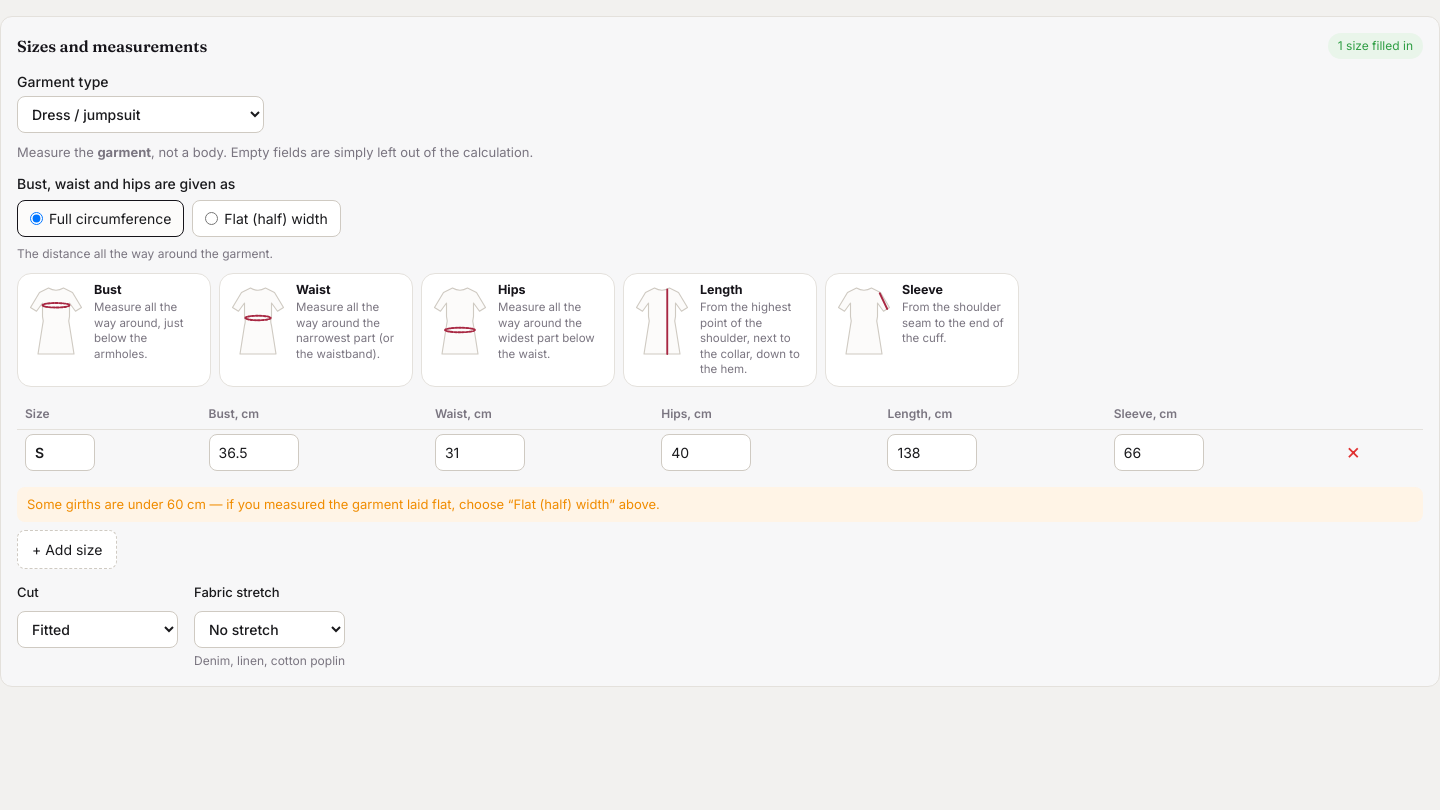
Test: flat-looking numbers with "Full circumference" selected get a gentle warning
Expected: the message shows "choose “Flat (half) width” above", [183,496,660,512]
Click the radio button labelled "Flat (half) width".
click(212, 218)  # box [205,212,218,224]
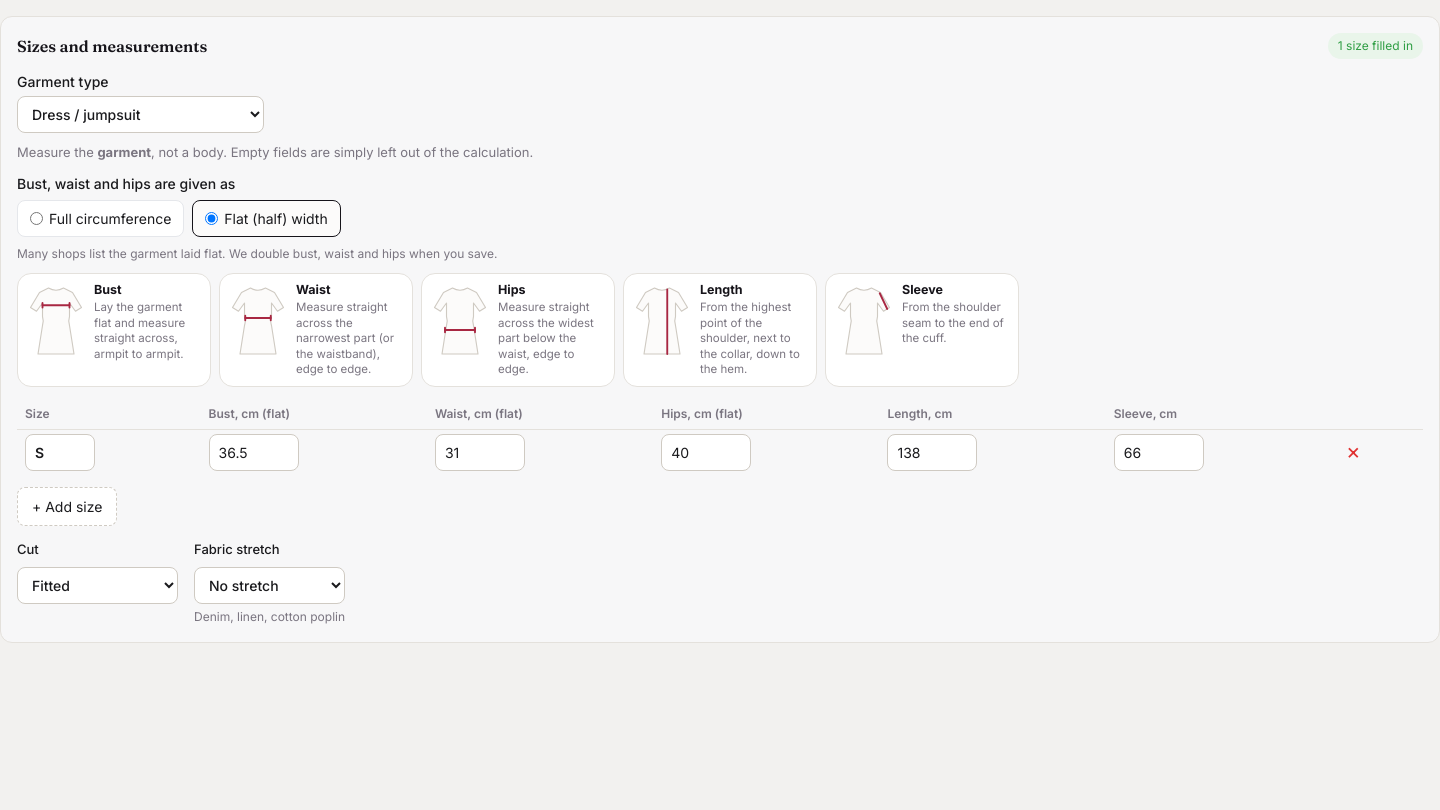
Expected: the message is gone
